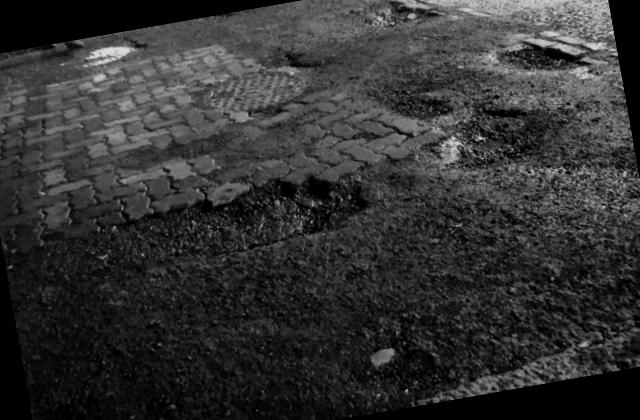Pothole: (87, 150, 380, 304), (416, 99, 577, 190), (205, 42, 328, 136), (496, 20, 606, 90), (61, 28, 152, 93), (364, 0, 446, 44)
